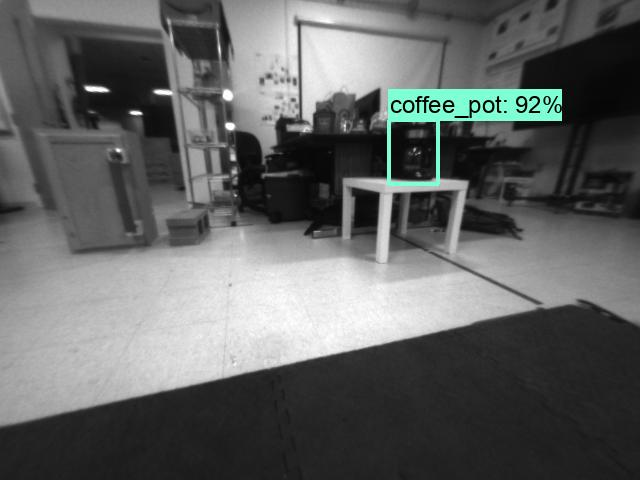coffee_pot: (386, 123, 437, 182)
